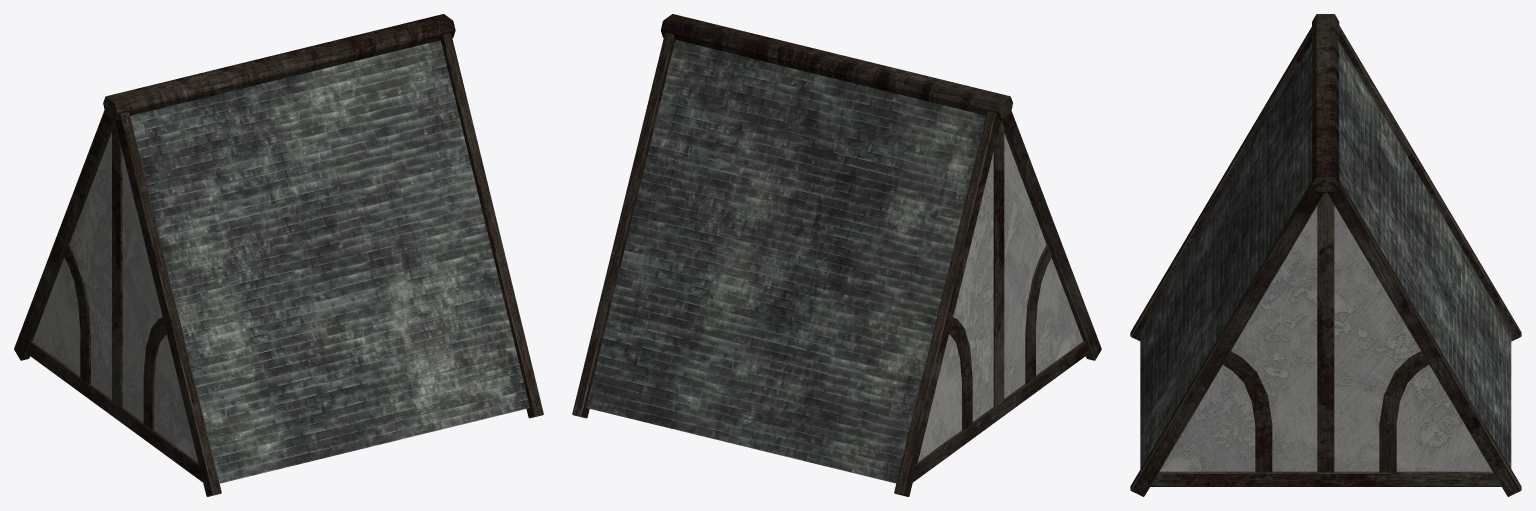
File: CastleRoofPlaster_Small.fbx
The picture shows the model from 3 angles, left to right: view 1: azimuth 30°, elevation 25°; view 2: azimuth 150°, elevation 25°; view 3: azimuth 270°, elevation 25°; orthographic projection. The views are drawn at different scales.
Parts seen in each view (by area): view 1: Castle Tower Roof Plaster Small; view 2: Castle Tower Roof Plaster Small; view 3: Castle Tower Roof Plaster Small.
Part boxes in pixels (<box>): Castle Tower Roof Plaster Small: <box>14,14,543,496</box>; Castle Tower Roof Plaster Small: <box>572,14,1101,496</box>; Castle Tower Roof Plaster Small: <box>1130,14,1521,496</box>.
Size of the model in its own units: 633 by 589 by 645.
